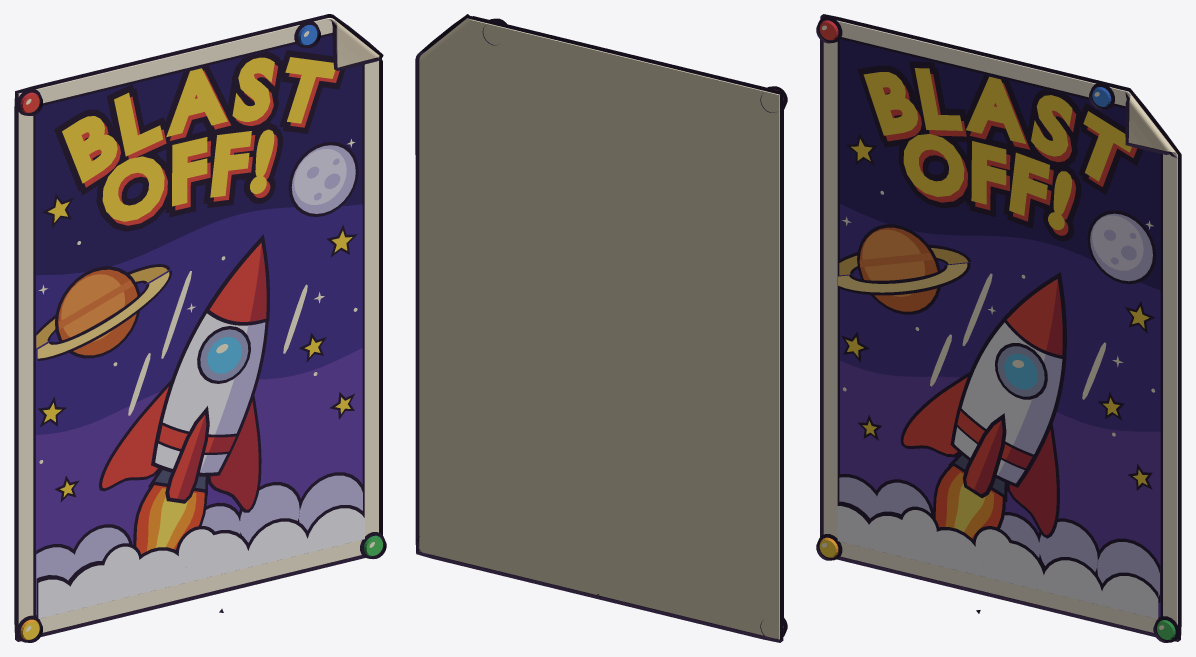
The model's file is PosterRocket.glb.
3 views of the same model, side by side, from view 1: azimuth 30°, elevation 25°; view 2: azimuth 150°, elevation 25°; view 3: azimuth 330°, elevation 25° (orthographic).
Parts seen in each view (by area): view 1: PosterRocket, PosterRocket_Outline; view 2: PosterRocket, PosterRocket_Outline; view 3: PosterRocket, PosterRocket_Outline.
Boxes of the visible parts, x1,y1,x2,y2 form: PosterRocket: (18,18,382,639); PosterRocket_Outline: (14,14,386,642); PosterRocket: (419,18,783,639); PosterRocket_Outline: (415,14,787,642); PosterRocket: (819,20,1177,639); PosterRocket_Outline: (816,14,1181,642).
Size of the model in its own units: 9.2 by 13.21 by 1.12.
Materials: 1 (1 with a texture image).
